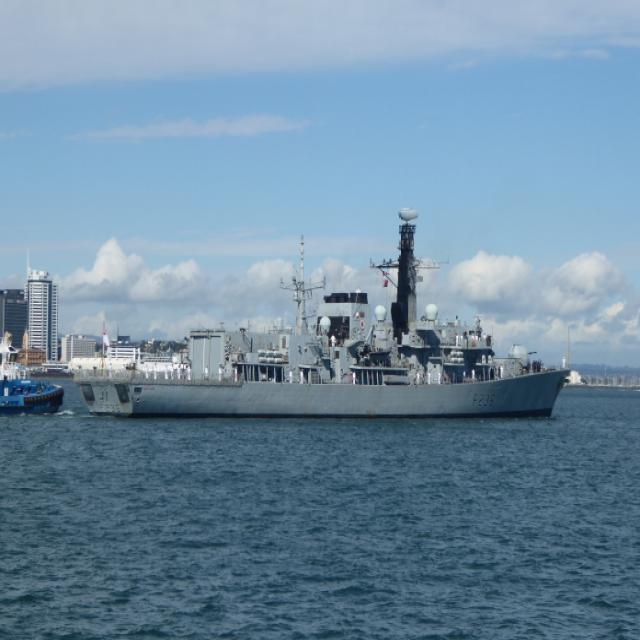Fragata: (71, 208, 570, 419)
